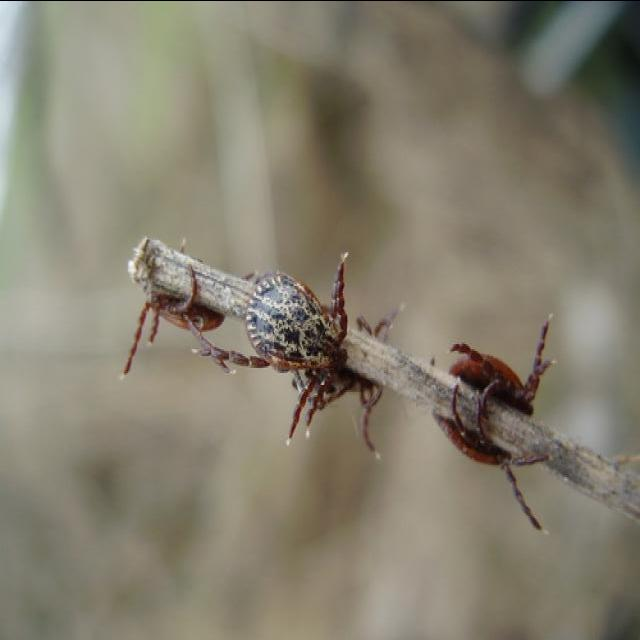Dermacentor Reticulatus-M: (224, 253, 349, 444)
